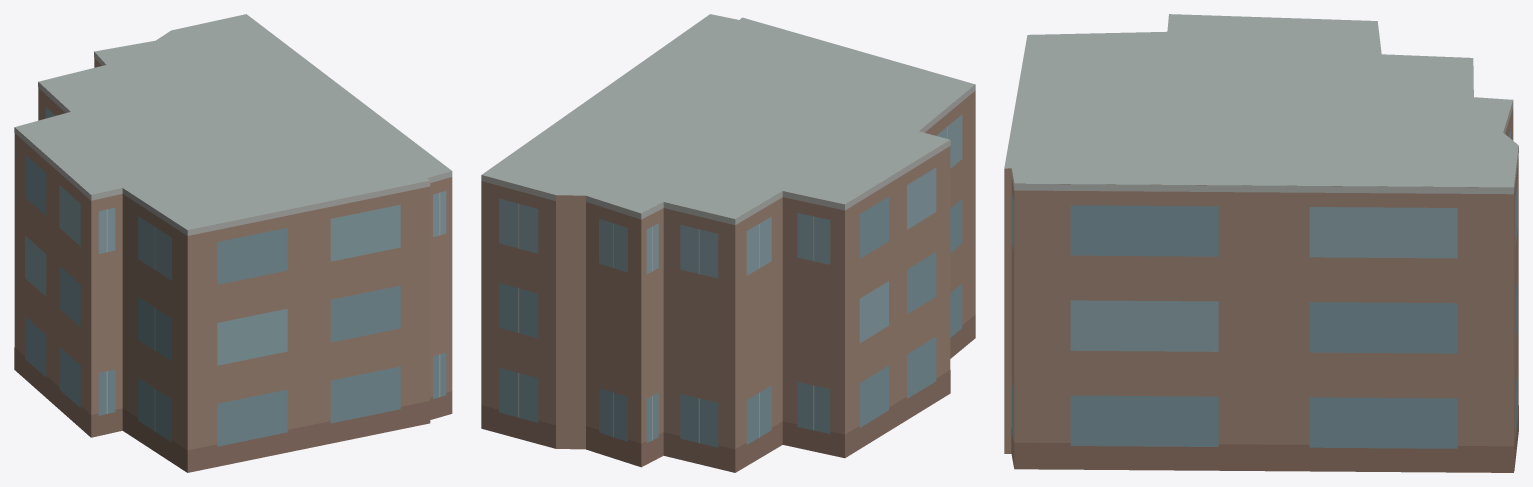
The model's file is survey-upis-32650498.glb.
3 renders of one model, left to right at view 1: azimuth 30°, elevation 25°; view 2: azimuth 150°, elevation 25°; view 3: azimuth 270°, elevation 25°, orthographic. The views are drawn at different scales.
Visible parts, largest first — view 1: survey-upis-32650498.tmp; view 2: survey-upis-32650498.tmp; view 3: survey-upis-32650498.tmp.
Part boxes in pixels (bbox=[...]): survey-upis-32650498.tmp: bbox=[14, 14, 452, 472]; survey-upis-32650498.tmp: bbox=[481, 14, 975, 472]; survey-upis-32650498.tmp: bbox=[1004, 14, 1518, 472].
Size of the model in its own units: 13.29 by 10.2 by 16.67.
